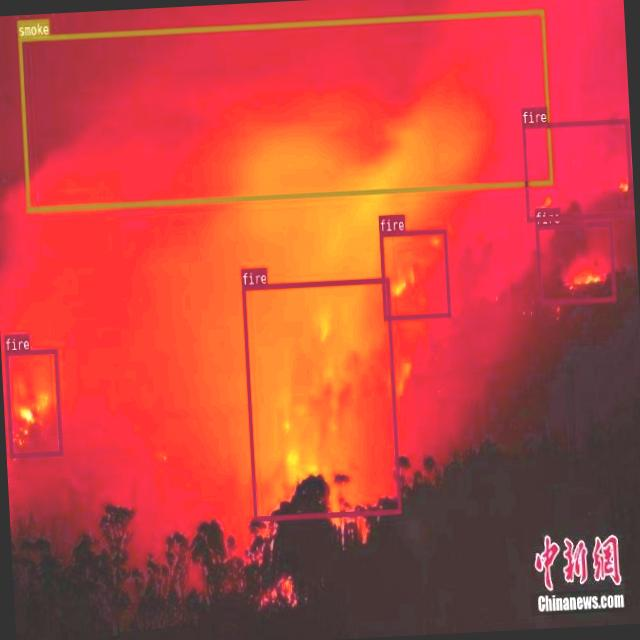fire: (241, 278, 400, 520), (521, 118, 633, 220), (536, 220, 616, 304), (378, 228, 451, 319), (4, 348, 63, 458)
smoke: (18, 9, 553, 211)
